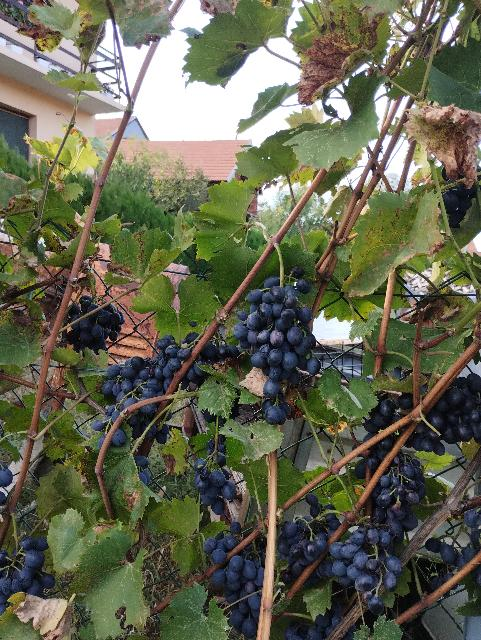grapes: (234, 270, 321, 425), (92, 332, 199, 431), (278, 494, 341, 582), (0, 535, 55, 614), (65, 295, 126, 354), (194, 435, 238, 515), (128, 402, 170, 444)
